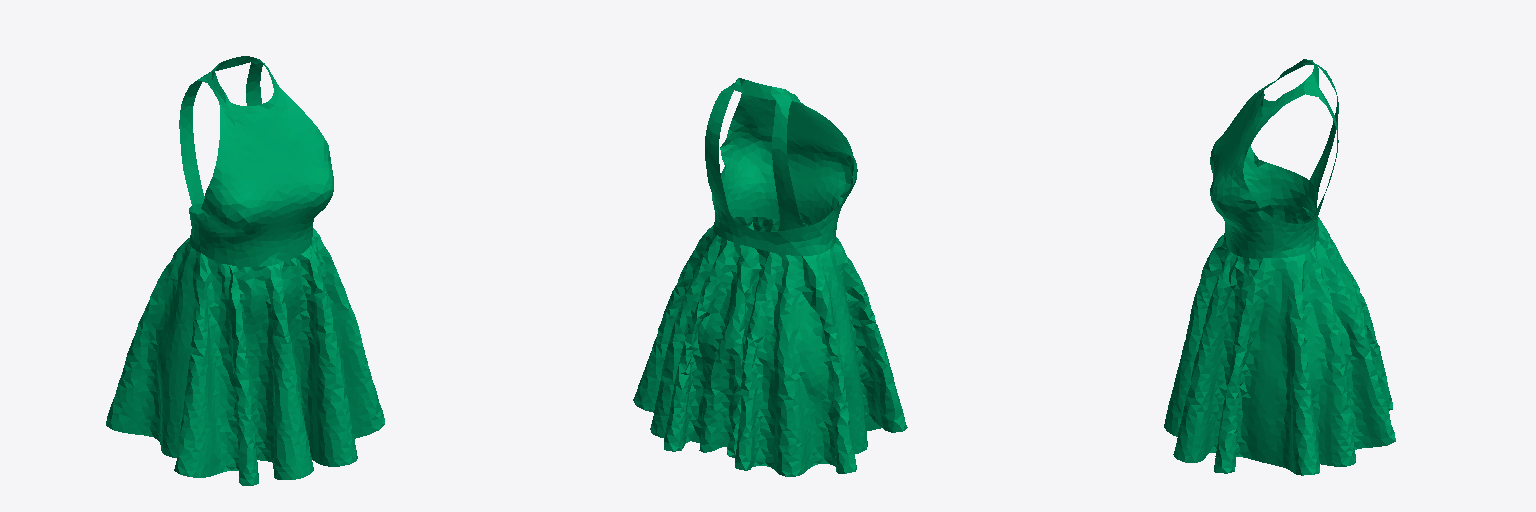
3 views of the same model, side by side, from view 1: azimuth 30°, elevation 25°; view 2: azimuth 150°, elevation 25°; view 3: azimuth 270°, elevation 25° (orthographic).
Parts seen in each view (by area): view 1: medium_makehuman_green:polySurface1; view 2: medium_makehuman_green:polySurface1; view 3: medium_makehuman_green:polySurface1.
Part boxes in pixels (x1,y1,x2,y2): medium_makehuman_green:polySurface1: (106,56,384,485); medium_makehuman_green:polySurface1: (633,78,907,476); medium_makehuman_green:polySurface1: (1164,59,1395,475).
Bounding box in the file's own units: 522 × 785 × 442.
Materials: 7 (1 with a texture image).